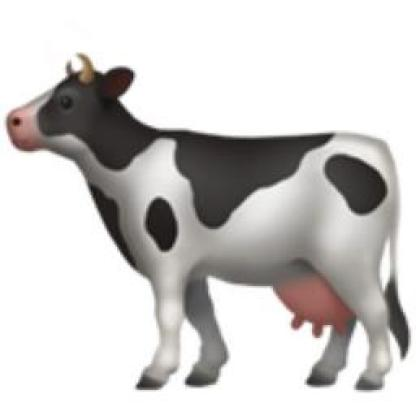cow: (5, 53, 411, 392)
